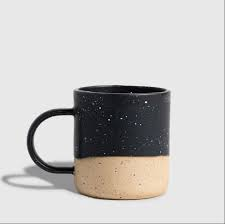mug: (20, 78, 183, 204)
